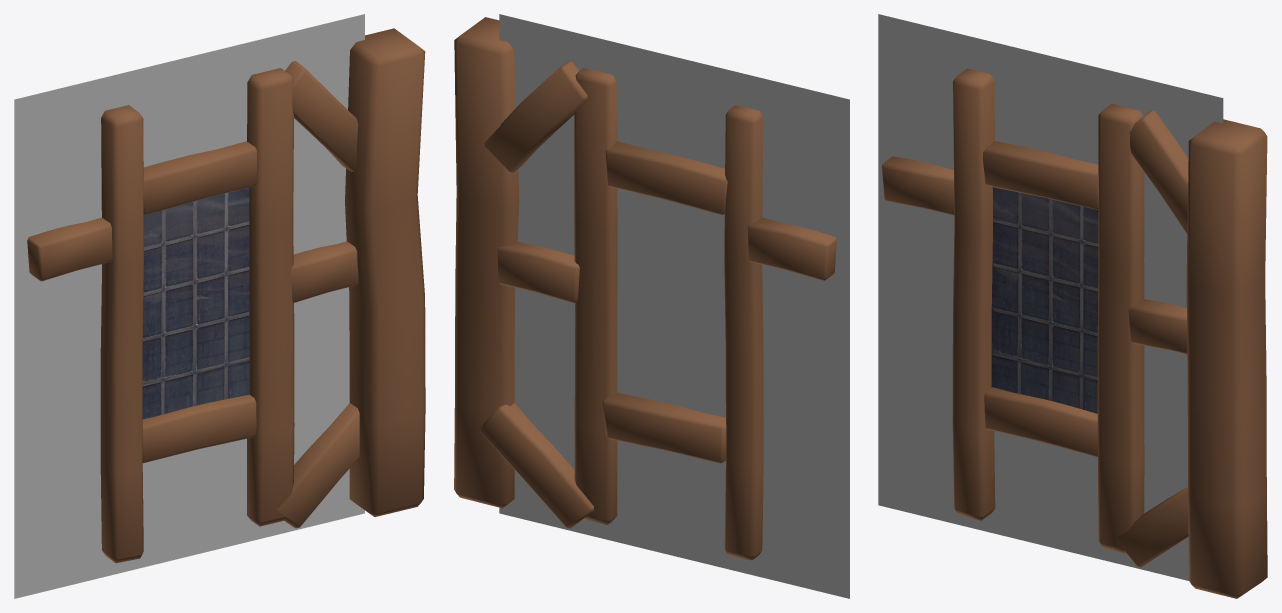
Rendered from house plaster wall 2.fbx.
The picture shows the model from 3 angles, left to right: view 1: azimuth 30°, elevation 25°; view 2: azimuth 150°, elevation 25°; view 3: azimuth 330°, elevation 25°; orthographic projection.
Parts seen in each view (by area): view 1: Cube.057; view 2: Cube.057; view 3: Cube.057.
Boxes of the visible parts, <box> form: Cube.057: <box>14,14,425,598</box>; Cube.057: <box>454,14,849,598</box>; Cube.057: <box>878,14,1267,598</box>.
Size of the model in its own units: 223 by 272 by 35.63.
